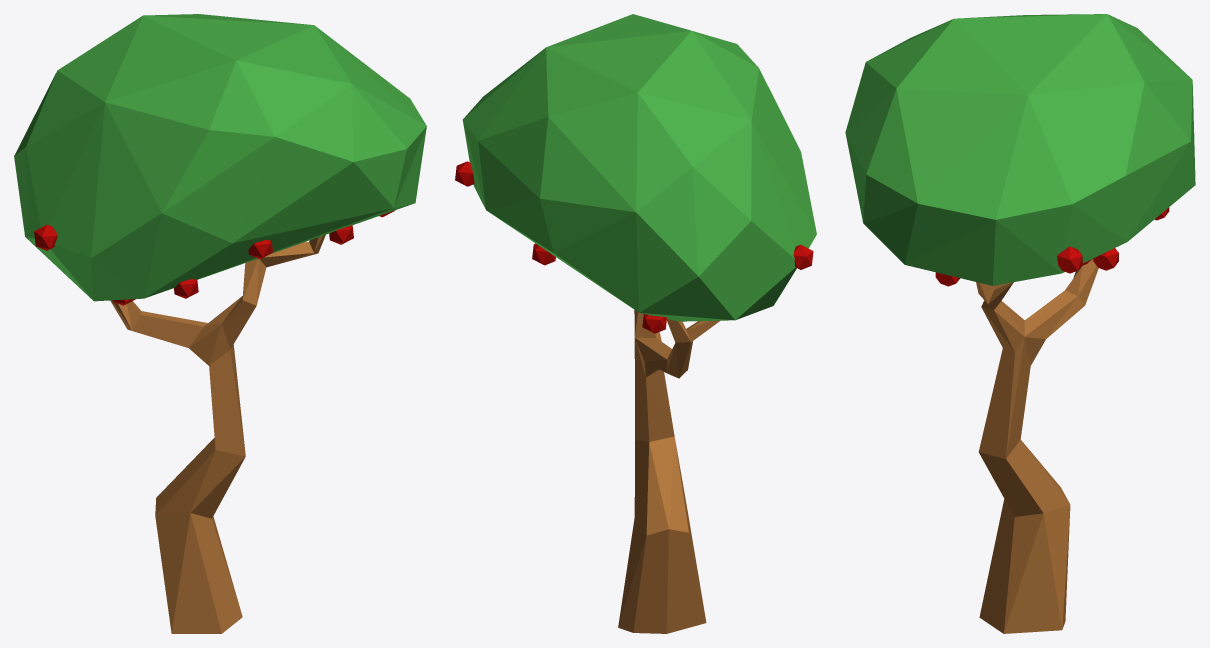
The model's file is tree_04.glb.
3 views of the same model, side by side, from view 1: azimuth 30°, elevation 25°; view 2: azimuth 150°, elevation 25°; view 3: azimuth 270°, elevation 25° (orthographic). The views are drawn at different scales.
Parts seen in each view (by area): view 1: Lowpoly_Tree_04_Material.002_0, Lowpoly_Tree_04_Material_0, Lowpoly_Tree_04_Material.003_0; view 2: Lowpoly_Tree_04_Material.002_0, Lowpoly_Tree_04_Material_0, Lowpoly_Tree_04_Material.003_0; view 3: Lowpoly_Tree_04_Material.002_0, Lowpoly_Tree_04_Material_0, Lowpoly_Tree_04_Material.003_0.
Part boxes in pixels (x1,y1,x2,y2): Lowpoly_Tree_04_Material.002_0: [14, 14, 426, 301]; Lowpoly_Tree_04_Material_0: [110, 234, 325, 633]; Lowpoly_Tree_04_Material.003_0: [34, 210, 395, 305]; Lowpoly_Tree_04_Material.002_0: [462, 14, 816, 321]; Lowpoly_Tree_04_Material_0: [618, 310, 720, 633]; Lowpoly_Tree_04_Material.003_0: [455, 161, 813, 333]; Lowpoly_Tree_04_Material.002_0: [845, 14, 1195, 285]; Lowpoly_Tree_04_Material_0: [976, 258, 1098, 633]; Lowpoly_Tree_04_Material.003_0: [935, 207, 1169, 286].
Bounding box in the file's own units: 0.8899 × 1.39 × 0.7343.
